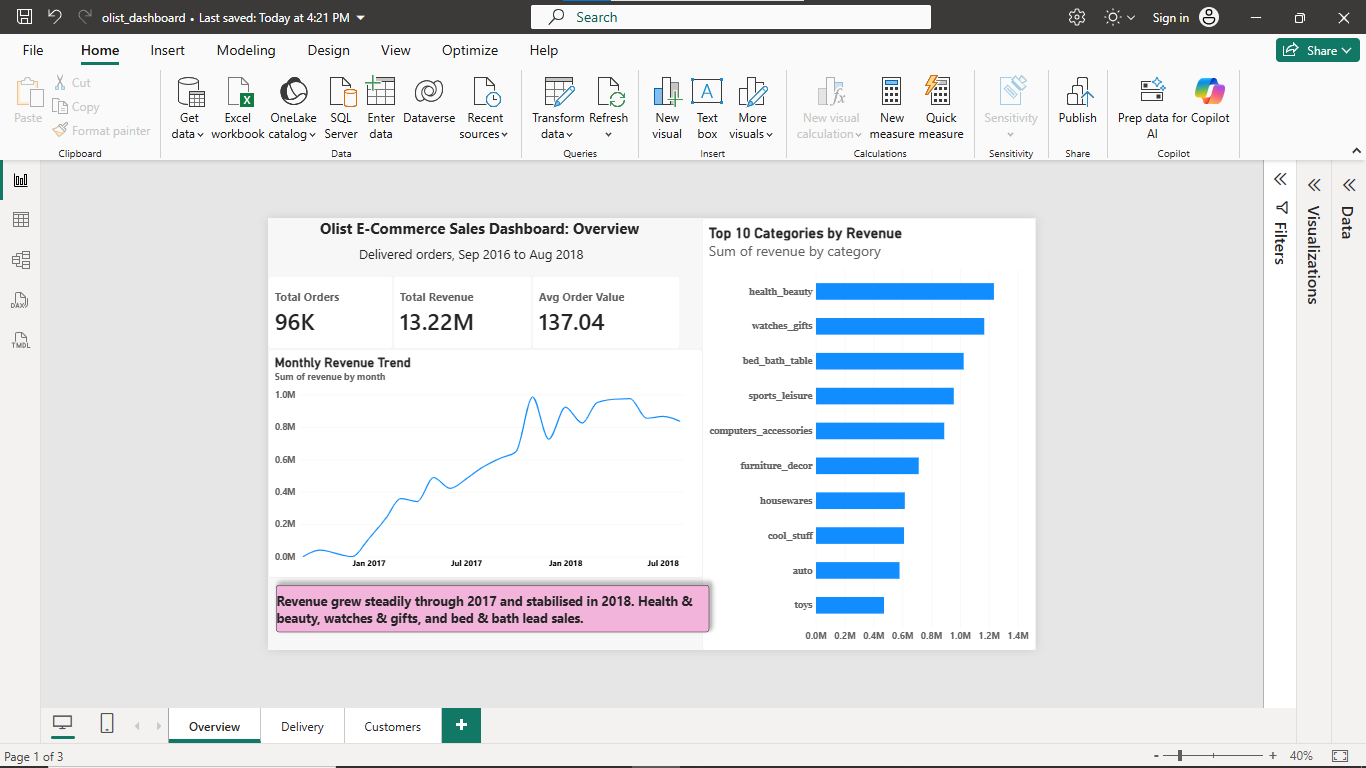

What the dashboard file says about the page in this screenshot:
{"tool":"powerbi","page":{"name":"Overview","canvas":[1920,1080],"ordinal":0},"visuals":[{"type":"cardVisual","fields":{"Data":["monthly_revenue.total revenue"]},"box":[312.4,146.1,347.7,181.4],"z":0},{"type":"cardVisual","fields":{"Data":["monthly_revenue.total orders"]},"box":[0,146.1,312.4,181.4],"z":1000},{"type":"cardVisual","fields":{"Data":["monthly_revenue.avg order value"]},"box":[660.2,146.1,370.4,181.4],"z":2000},{"type":"lineChart","title":"Monthly Revenue Trend","fields":{"Category":["monthly_revenue.month"],"Y":["Sum(monthly_revenue.revenue)"]},"box":[0,327.6,1086,572],"z":3000},{"type":"clusteredBarChart","title":"Top 10 Categories by Revenue","fields":{"Category":["category_revenue.category"],"Y":["Sum(category_revenue.revenue)"]},"box":[1086,0,834,1080.9],"z":4000},{"type":"textbox","box":[131,0,829,68],"z":5000},{"type":"textbox","box":[226.8,68,781.1,52.9],"z":6000},{"type":"textbox","box":[20.2,917.2,1083.5,118.4],"z":7000}]}

Visuals, with their boxes on the page's 1920x1080 design canvas (x1, y1, x2, y2). These are canvas units, not pixel positions in the 1366x768 screenshot, which may show the page scaled, cropped or inside an application window:
cardVisual - monthly_revenue.total revenue: l=312, t=146, r=660, b=328
cardVisual - monthly_revenue.total orders: l=0, t=146, r=312, b=328
cardVisual - monthly_revenue.avg order value: l=660, t=146, r=1031, b=328
"Monthly Revenue Trend" lineChart: l=0, t=328, r=1086, b=900
"Top 10 Categories by Revenue" clusteredBarChart: l=1086, t=0, r=1920, b=1081
textbox: l=131, t=0, r=960, b=68
textbox: l=227, t=68, r=1008, b=121
textbox: l=20, t=917, r=1104, b=1036
